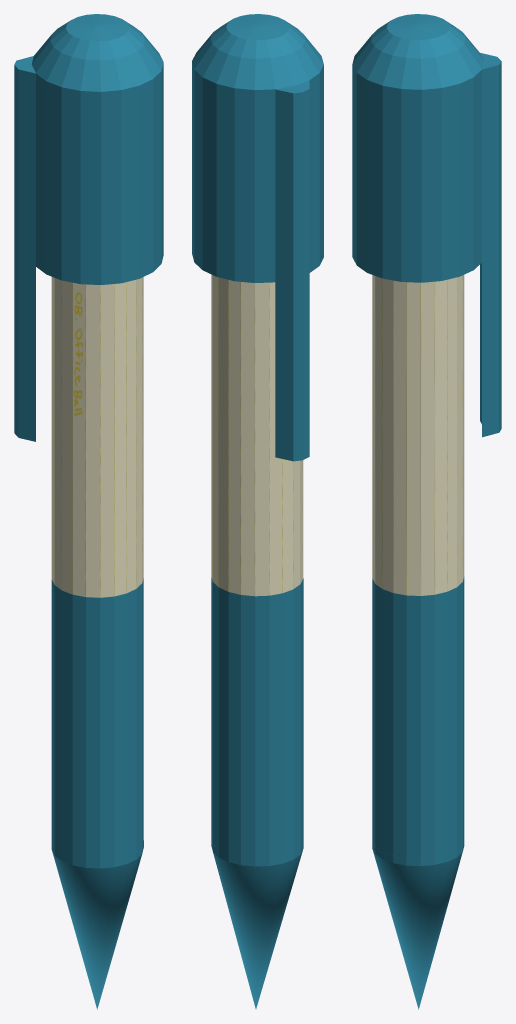
Rendered from Pen.fbx.
The picture shows the model from 3 angles, left to right: view 1: azimuth 90°, elevation 25°; view 2: azimuth 210°, elevation 25°; view 3: azimuth 270°, elevation 25°; orthographic projection.
Visible parts, largest first — view 1: group_pasted__pCone1; view 2: group_pasted__pCone1; view 3: group_pasted__pCone1.
Boxes of the visible parts, <box> form: group_pasted__pCone1: <box>14,14,163,1009</box>; group_pasted__pCone1: <box>192,14,323,1008</box>; group_pasted__pCone1: <box>352,14,501,1009</box>.
Bounding box in the file's own units: 0.9899 × 8.16 × 1.12.
2 materials, 1 textured.
